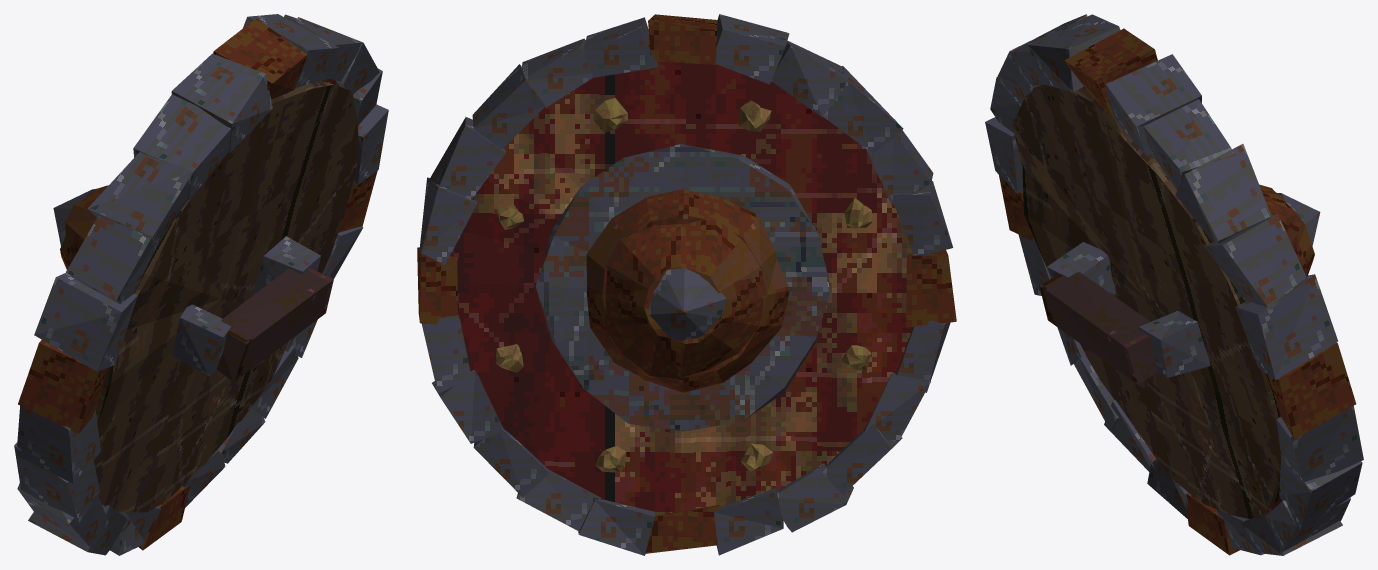
Rendered from shield.glb.
3 renders of one model, left to right at view 1: azimuth 30°, elevation 25°; view 2: azimuth 150°, elevation 25°; view 3: azimuth 270°, elevation 25°, orthographic. The views are drawn at different scales.
Visible parts, largest first — view 1: Shield; view 2: Shield; view 3: Shield.
Boxes of the visible parts, x1,y1,x2,y2 form: Shield: (14,14,388,555); Shield: (417,14,956,555); Shield: (985,14,1363,555).
Size of the model in its own units: 0.3356 by 0.358 by 0.2344.
Materials: 1 (1 with a texture image).
